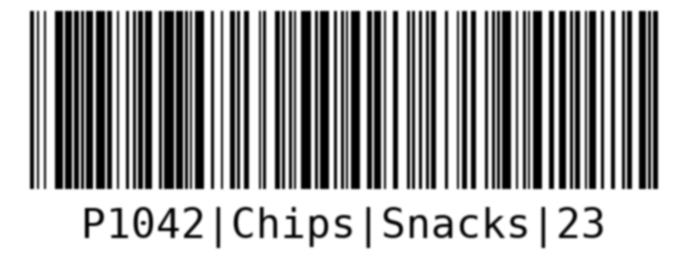milk: (23, 5, 666, 259)
